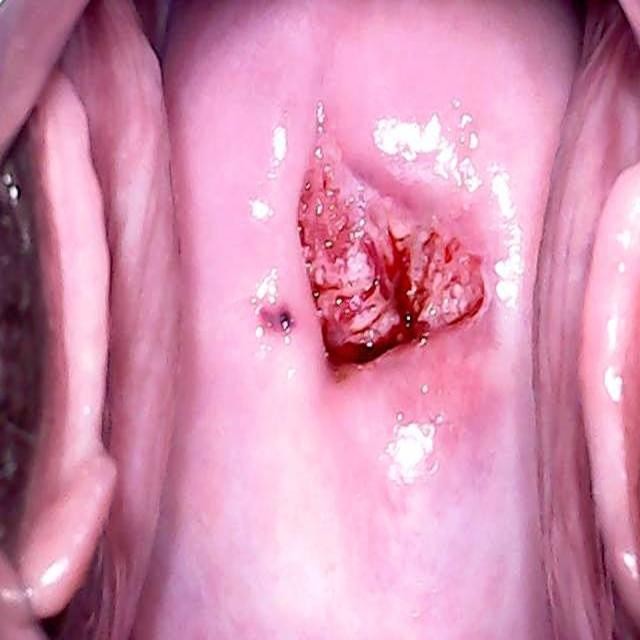cervical_lesion: (225, 59, 543, 526)
